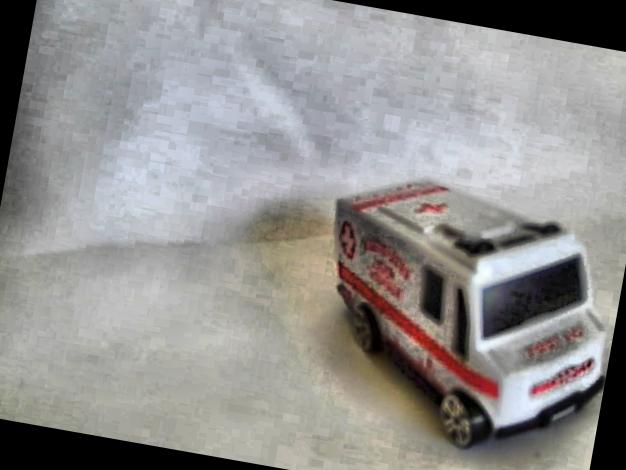ambulance: (296, 162, 626, 470)
